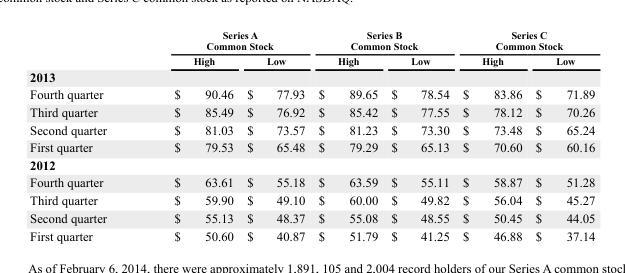table: (29, 29, 594, 242)
table column: (29, 29, 139, 242), (139, 29, 239, 242), (455, 29, 528, 242), (239, 29, 311, 242), (311, 29, 383, 242), (383, 29, 455, 242), (528, 29, 594, 242)
table column header: (29, 29, 594, 67)
table projected row header: (29, 67, 594, 85), (29, 155, 594, 173)
table row: (29, 29, 594, 52), (29, 67, 594, 85), (29, 102, 594, 120), (29, 120, 594, 138), (29, 155, 594, 173), (29, 190, 594, 208), (29, 208, 594, 226), (29, 85, 594, 102), (29, 138, 594, 155), (29, 173, 594, 190), (29, 226, 594, 242), (29, 52, 594, 67)
table spanning cell: (139, 29, 311, 52), (311, 29, 455, 52), (455, 29, 594, 52)
